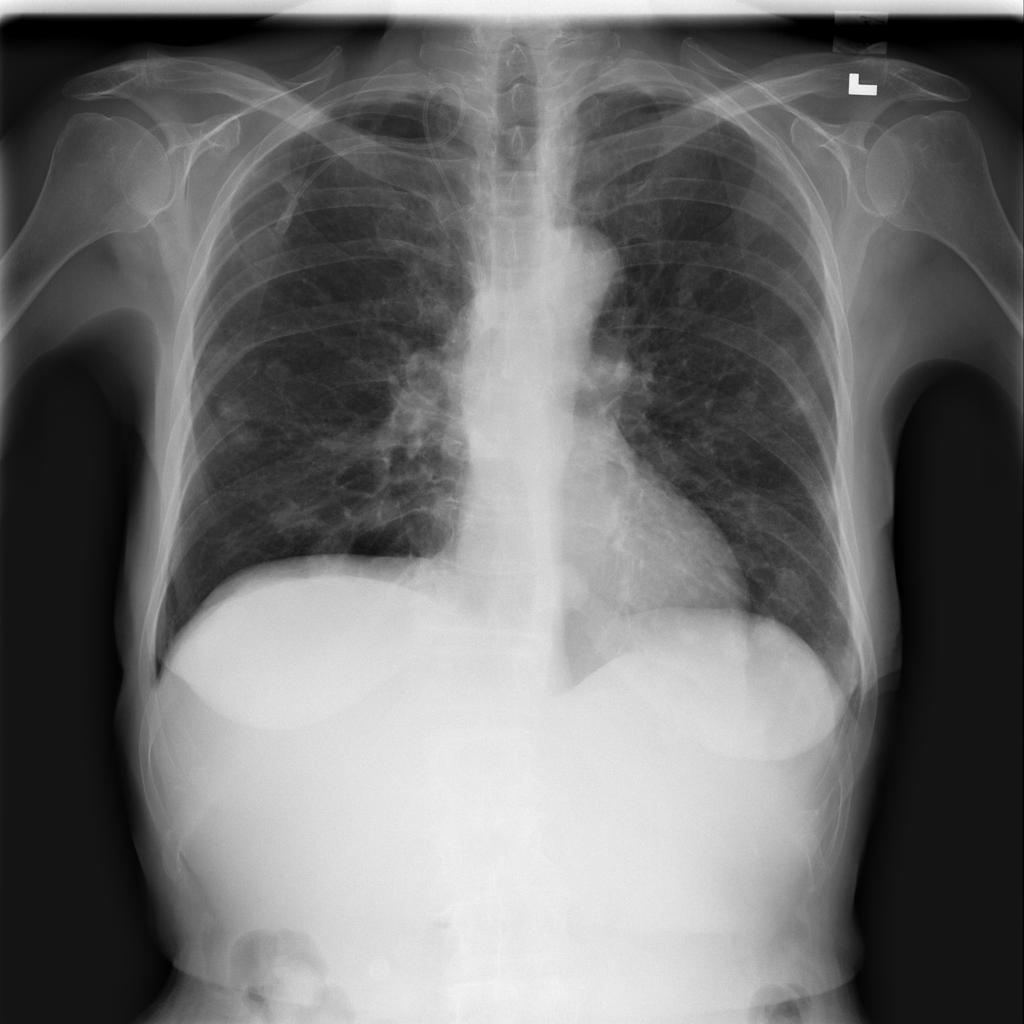nodule: (750, 556, 824, 629), (533, 548, 605, 623), (658, 246, 730, 319), (244, 487, 323, 549), (691, 612, 762, 680), (716, 609, 790, 672), (776, 391, 829, 442), (758, 324, 813, 372), (202, 378, 258, 425), (723, 370, 773, 421), (251, 351, 304, 397), (221, 423, 266, 463)
